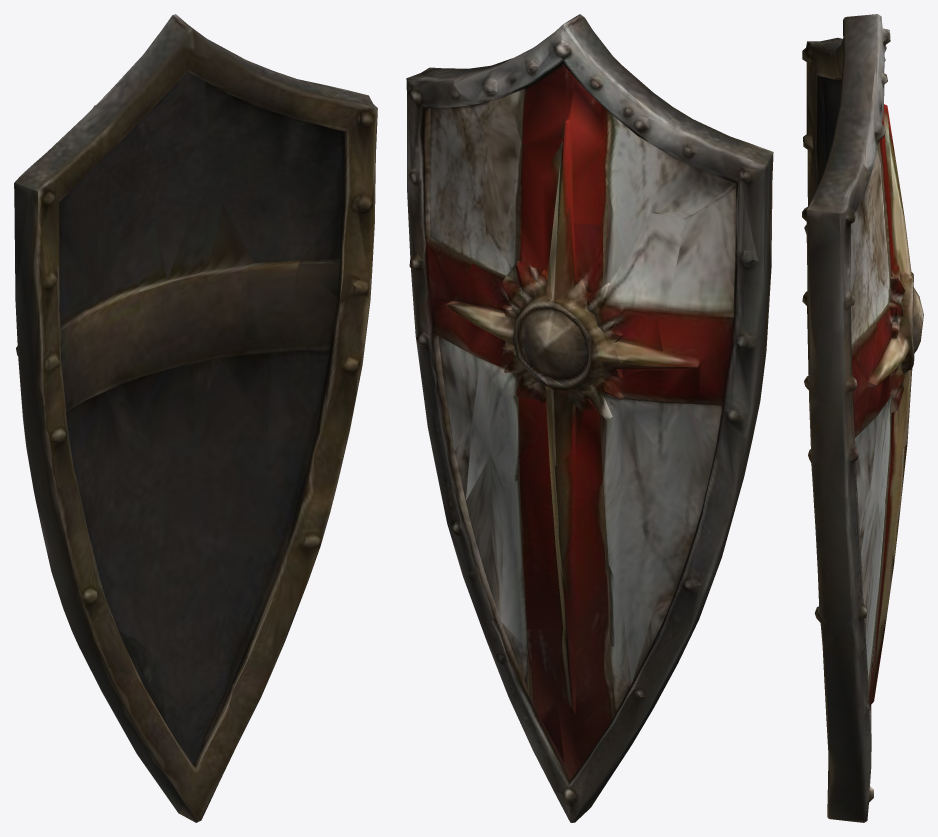
The model's file is kite_sun_cross.glb.
3 renders of one model, left to right at view 1: azimuth 30°, elevation 25°; view 2: azimuth 150°, elevation 25°; view 3: azimuth 270°, elevation 25°, orthographic.
Visible parts, largest first — view 1: kite_sun_cross; view 2: kite_sun_cross; view 3: kite_sun_cross.
Part boxes in pixels (box(x1,y1,x2,y2)): kite_sun_cross: box(14, 14, 377, 822); kite_sun_cross: box(406, 14, 773, 822); kite_sun_cross: box(802, 14, 923, 822).
Bounding box in the file's own units: 0.3924 × 0.8398 × 0.1148.
1 material, 1 textured.
